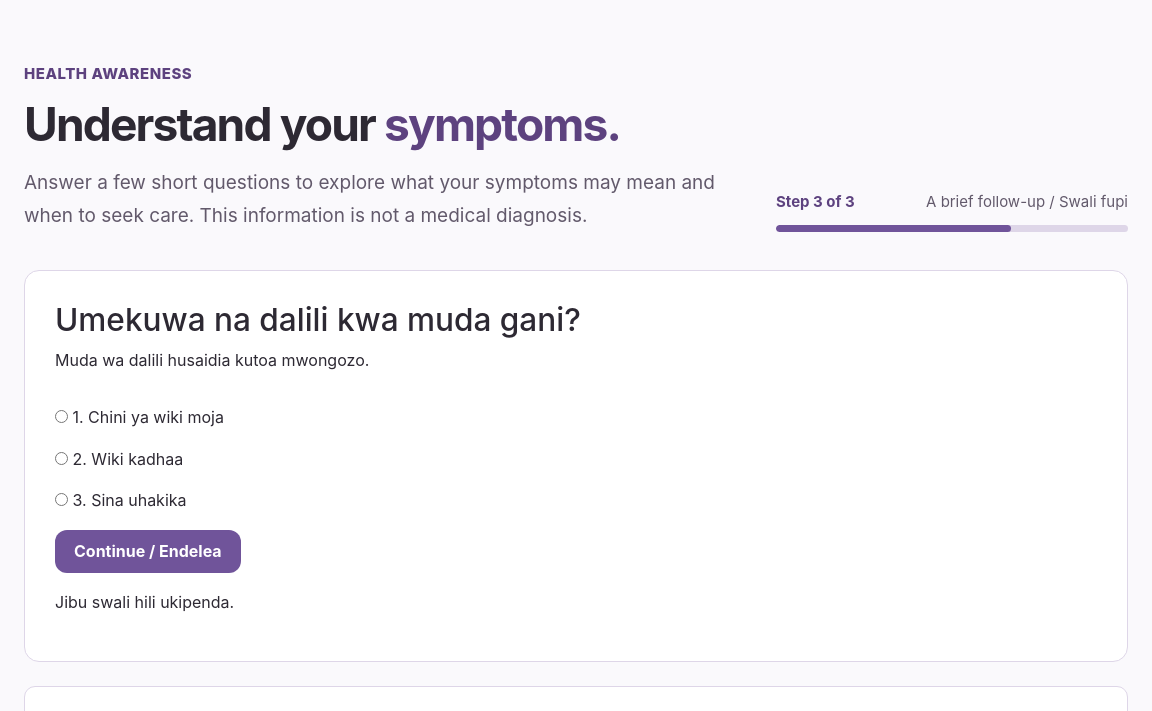
Test: Targeted assessment follow-ups › appends each answer and resets the selection for the next question
What coordinates should you click on to do the following:
click the radio button labelled "1. Chini ya wiki moja"
I would click on:
 (62, 417)
Its box is left=55, top=410, right=68, bottom=423.
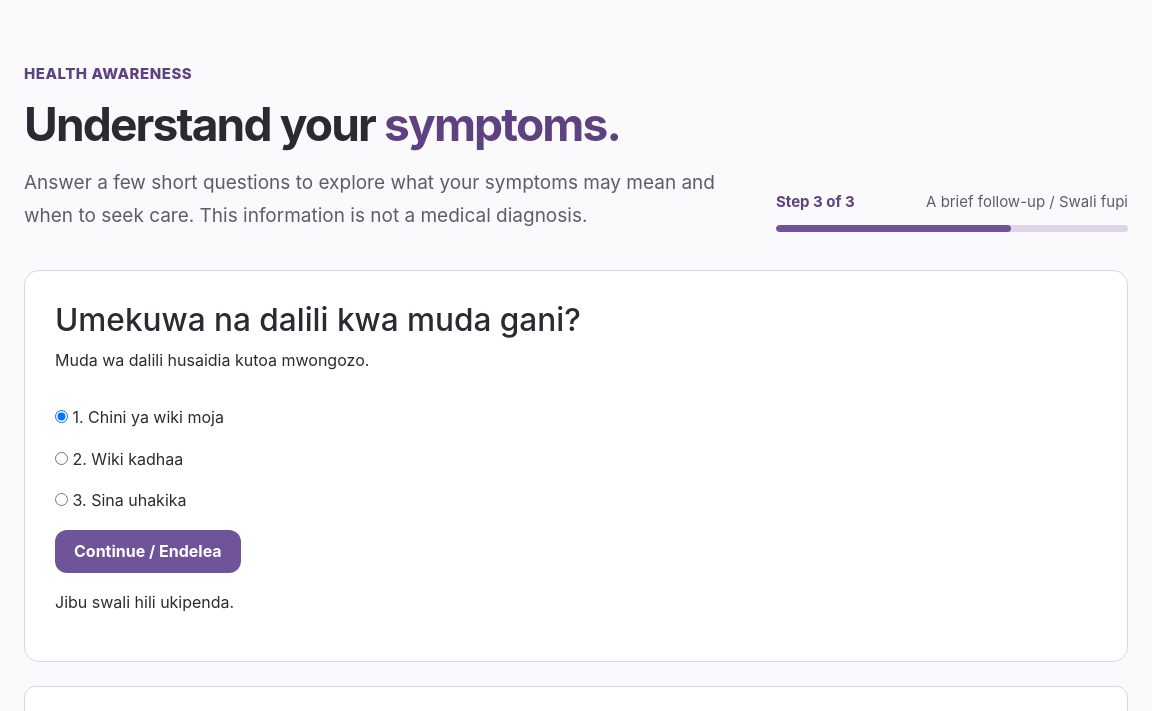
What coordinates should you click on to do the following:
click the button "Continue / Endelea"
I would click on:
 (148, 551)
Its box is left=55, top=530, right=241, bottom=573.
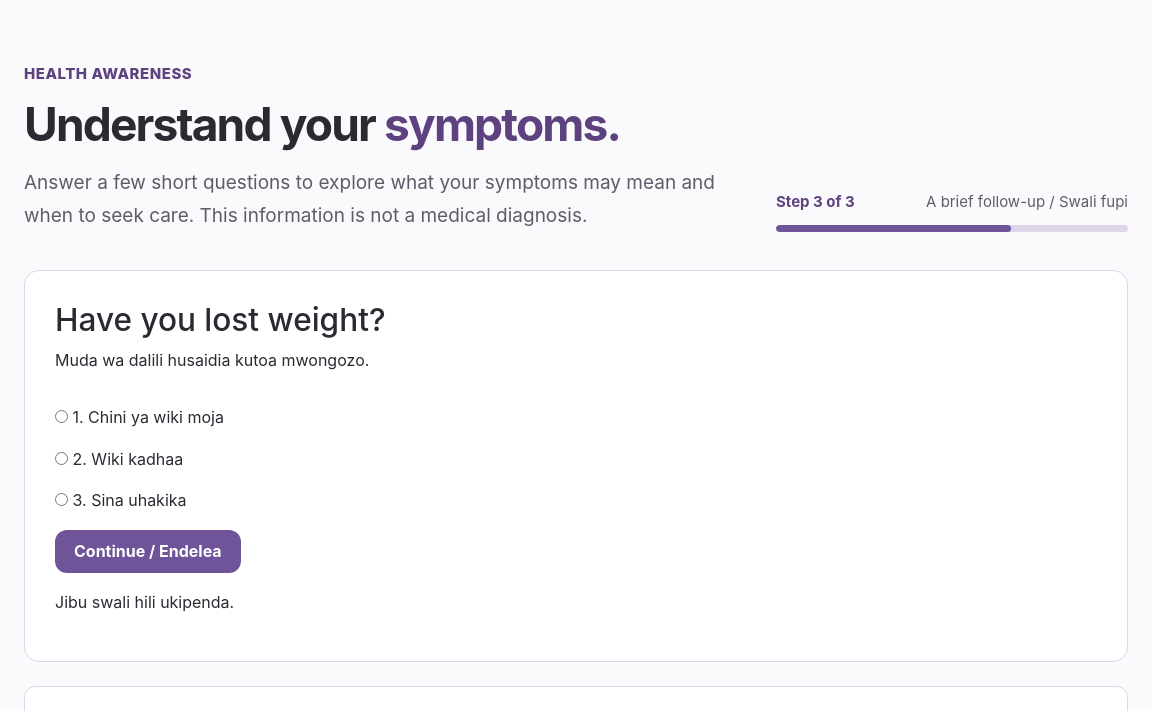
expect the heading "Have you lost weight?" is shown: met, box left=55, top=300, right=386, bottom=339
